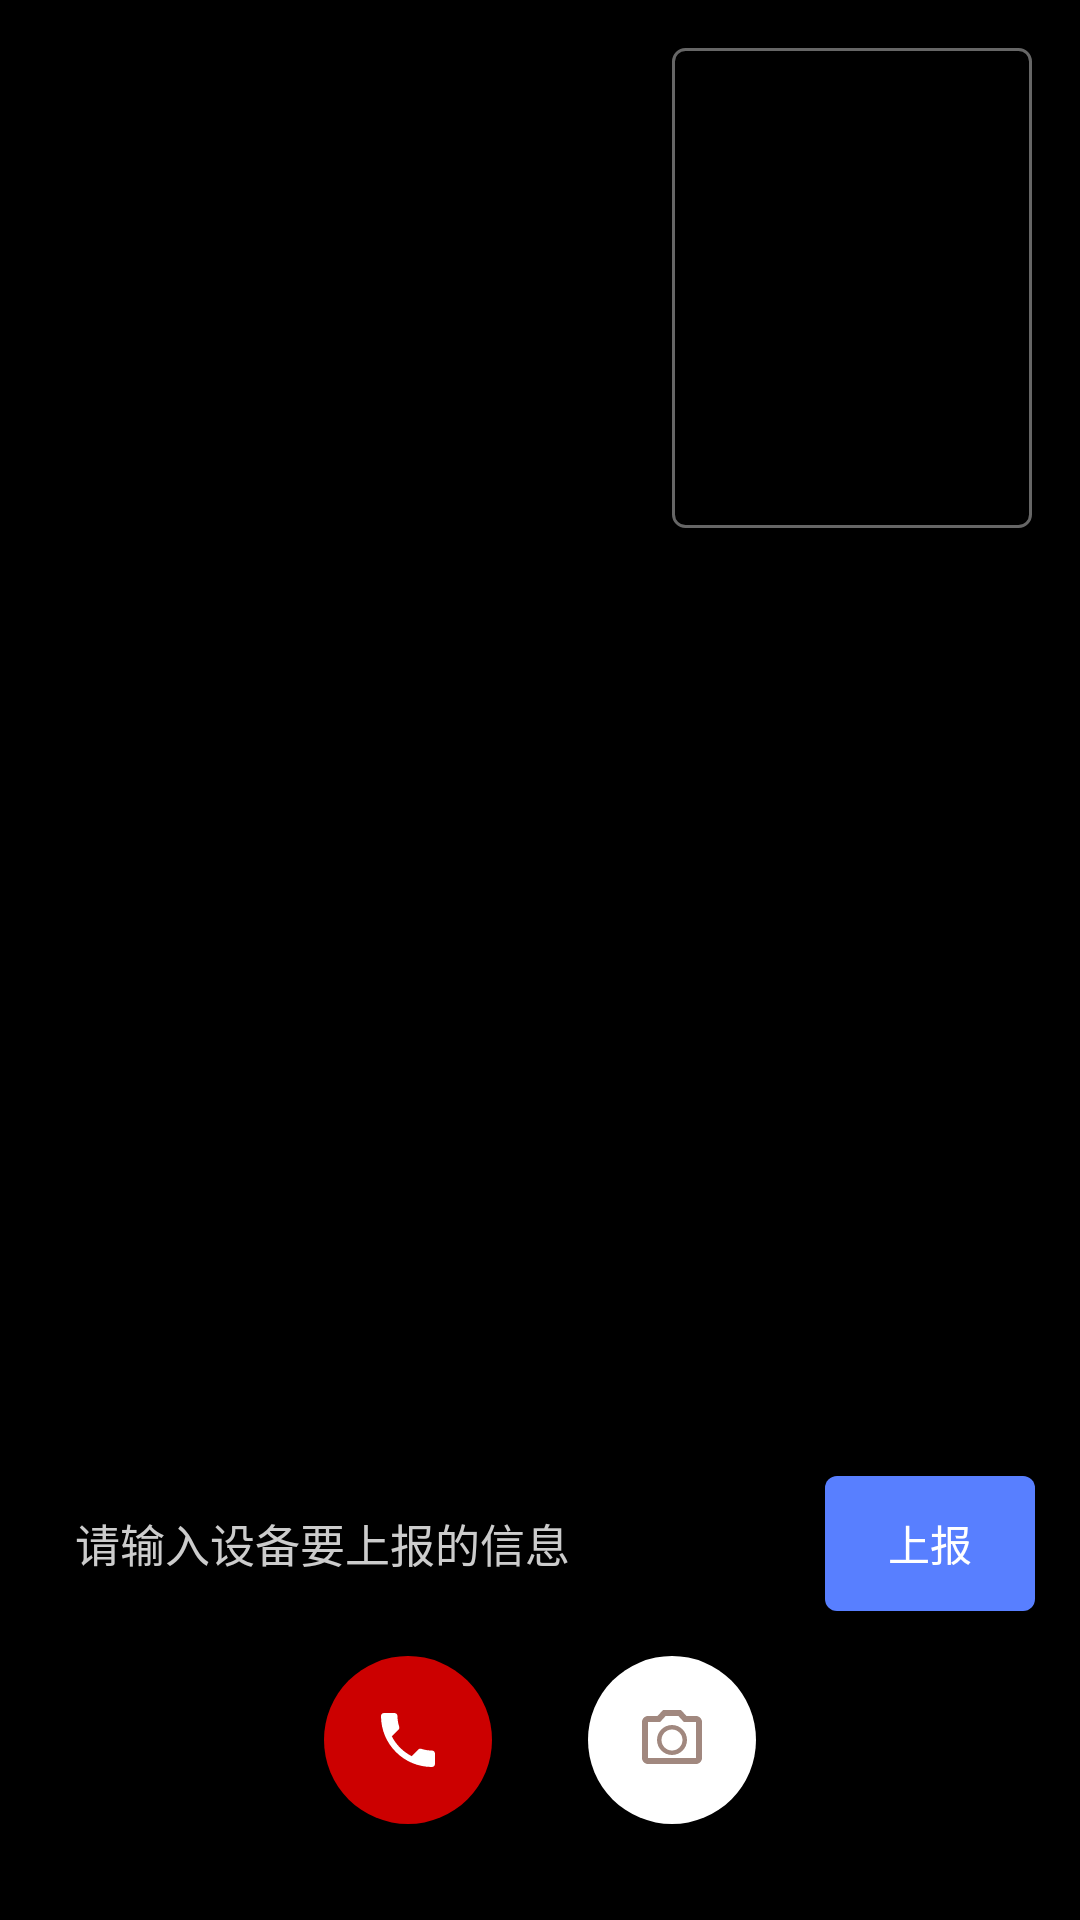

Icon click points for this 1080x1920 phone screenshot, format [x,y]:
关闭通话: [408,1740]
切换摄像头: [672,1740]
